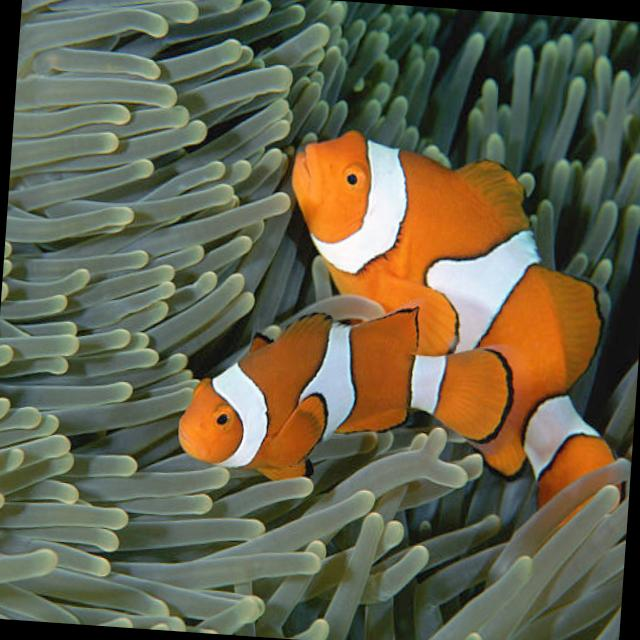ClownFish: (267, 123, 640, 513), (178, 296, 512, 494)
